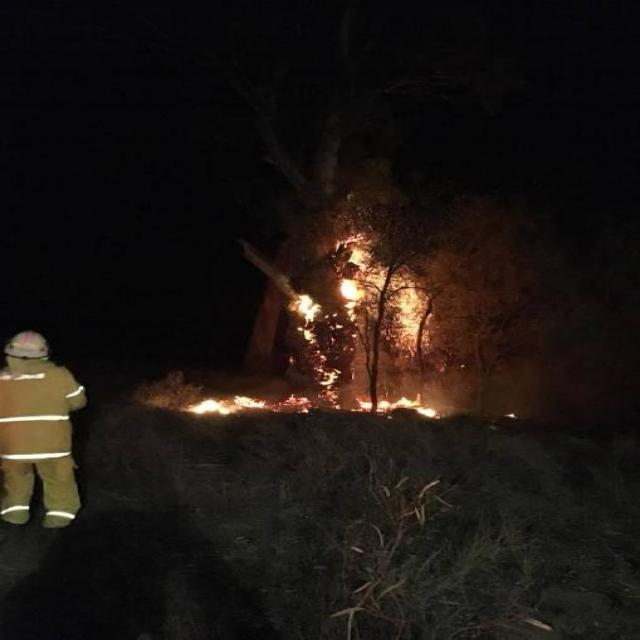Fire: (337, 246, 454, 392), (153, 394, 312, 421), (342, 394, 456, 423), (289, 292, 333, 344)
